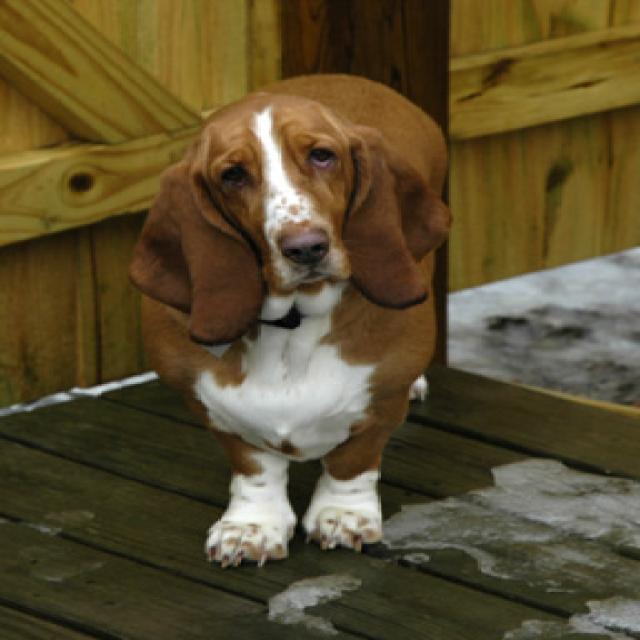dog: (124, 93, 449, 343)
